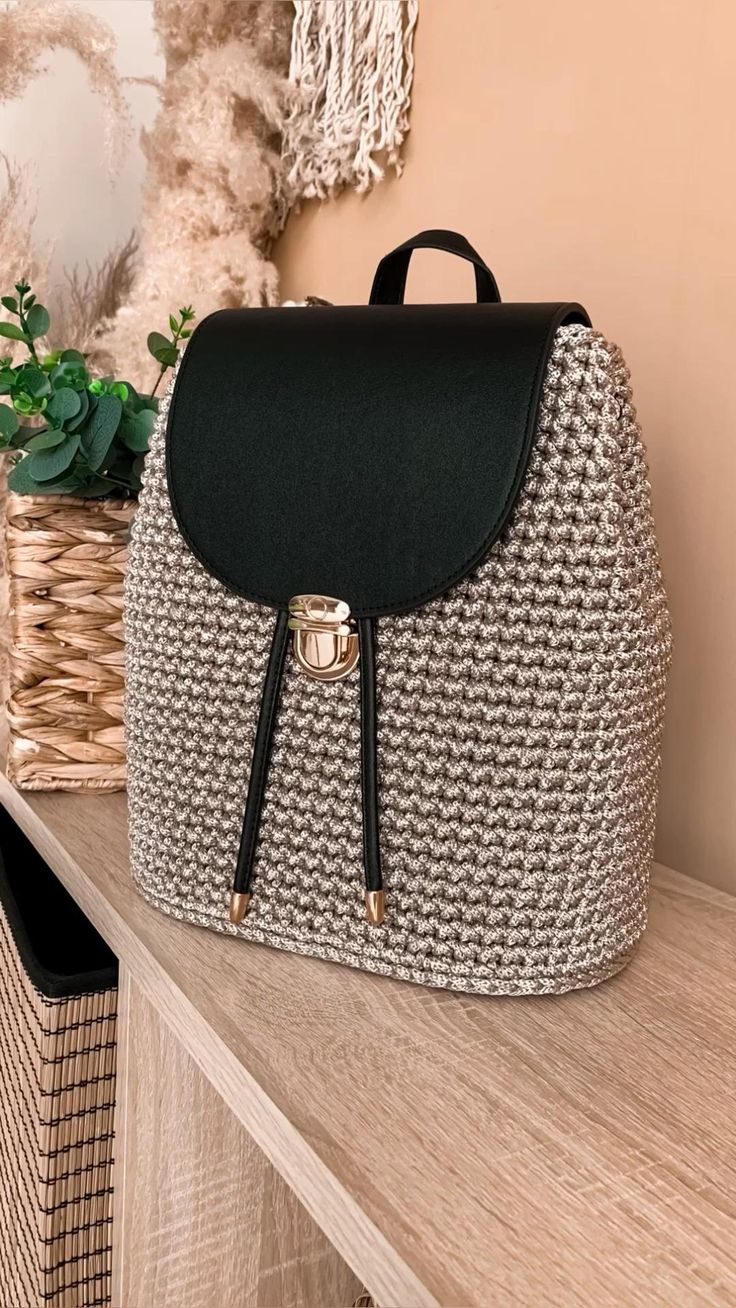cuero: (161, 301, 601, 618)
